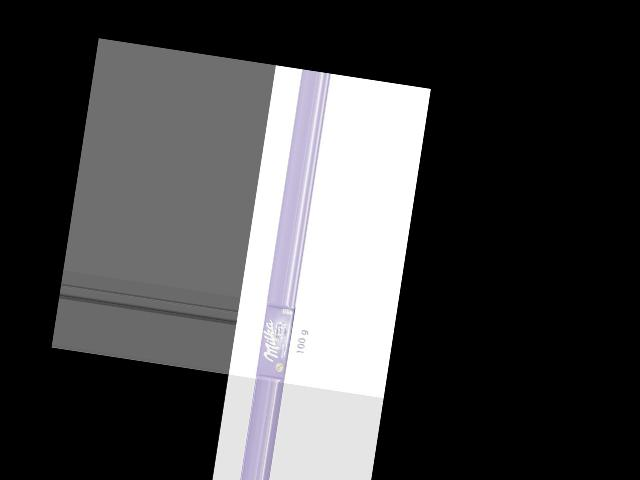chocolate: (255, 300, 301, 381)
